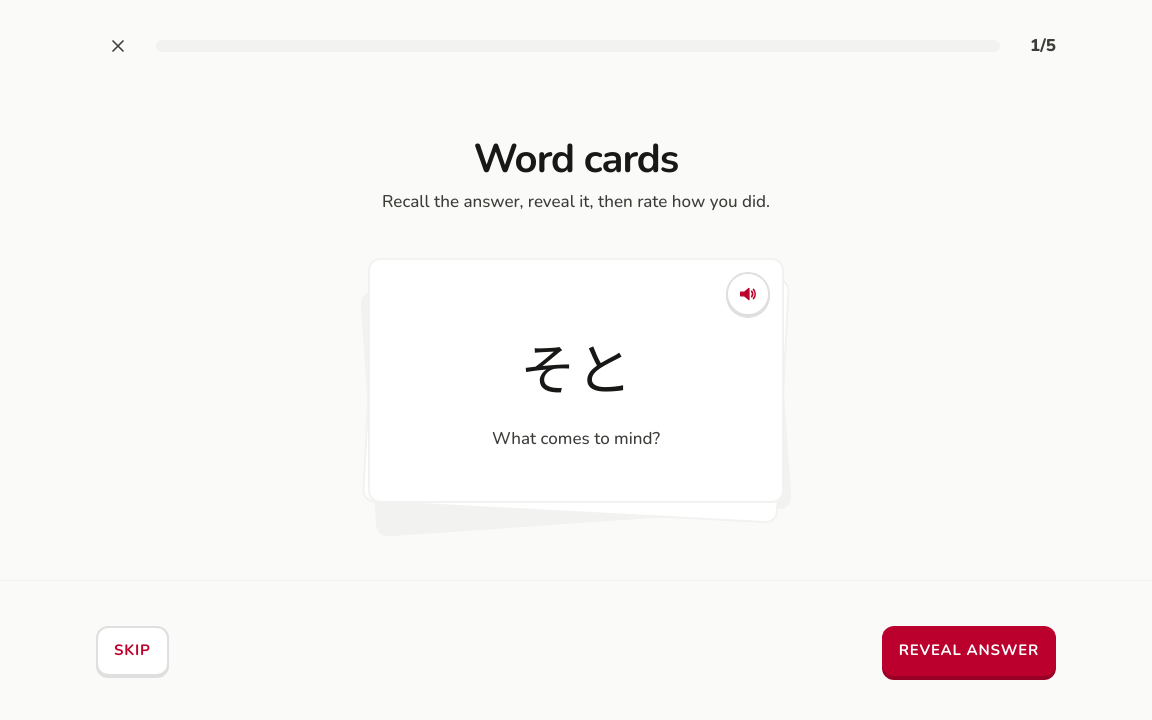
Test case: respects the romaji preference on the revealed word face
The width and height of the screenshot is (1152, 720).
Check: the heading "Word cards" is shown, box [474,132,678,186]
Click the button "Reveal answer" at coordinates (969, 650), box [882,626,1056,676]
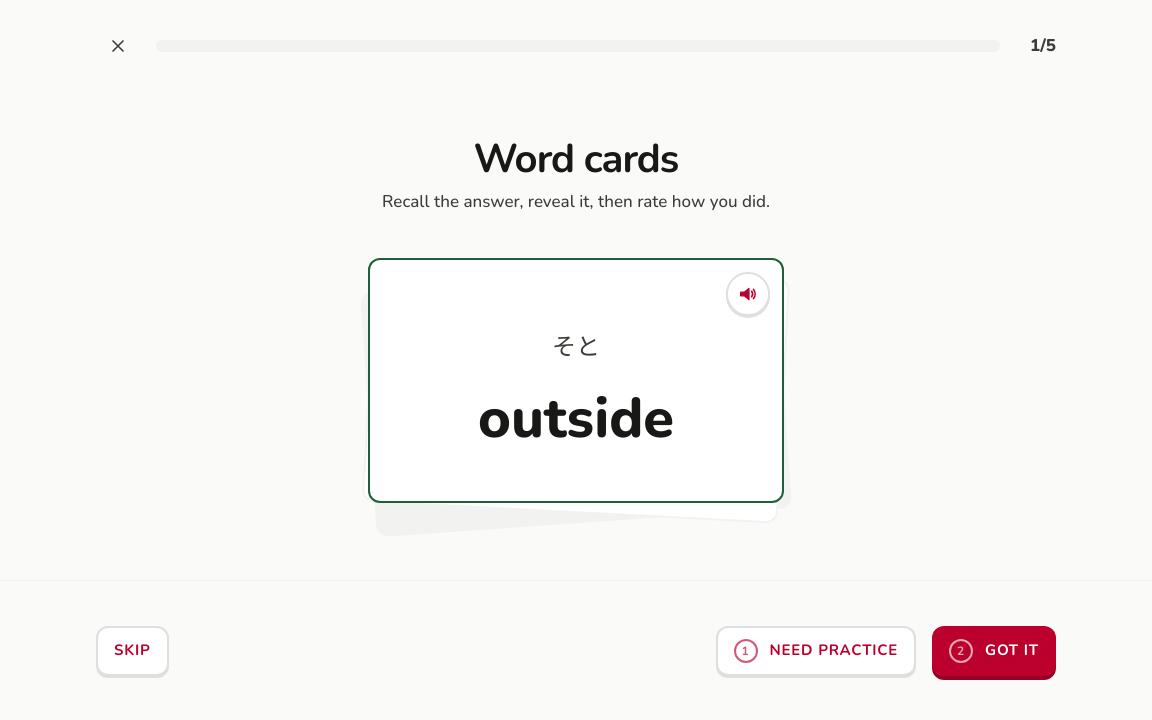
Check: the message shows "outside", box [478,380,674,457]
